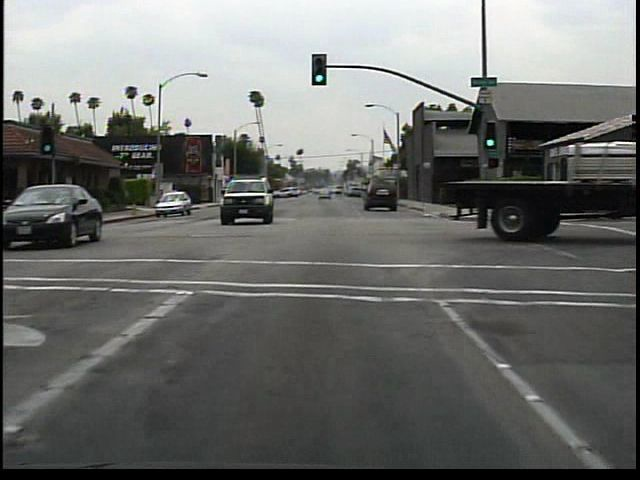person: (168, 182, 185, 206)
